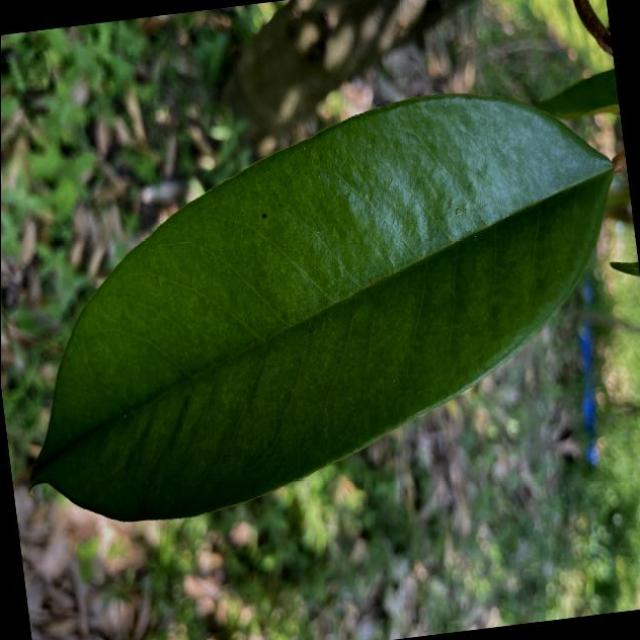No Disease: (0, 61, 640, 549)
